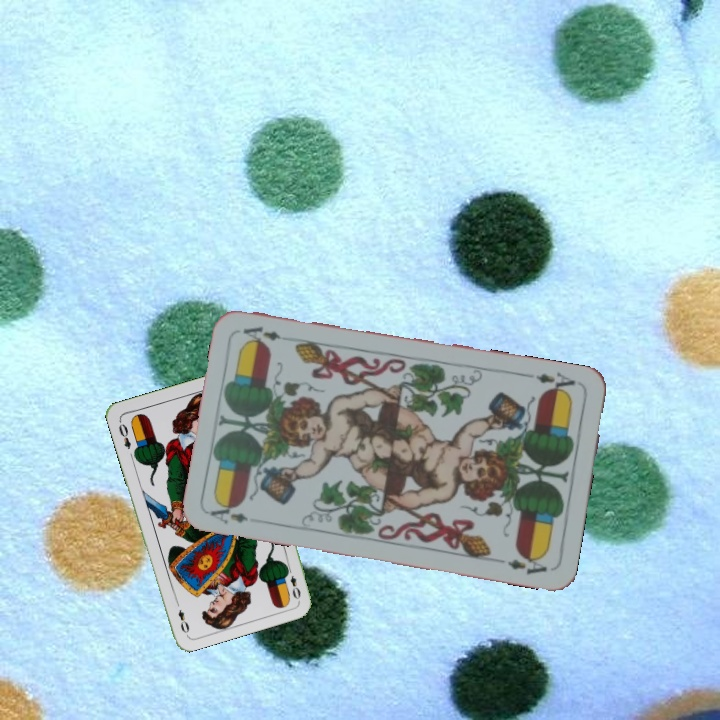EA: (523, 368, 578, 397), (206, 498, 251, 526)
EO: (283, 562, 303, 602), (115, 417, 134, 452)
